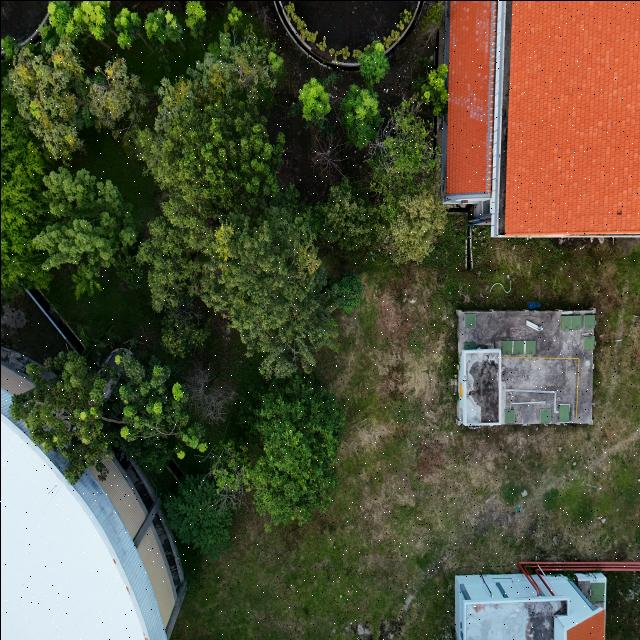Tree: (159, 473, 235, 557), (90, 58, 134, 138), (340, 80, 379, 146), (420, 60, 450, 116), (144, 2, 182, 46), (358, 40, 391, 84), (296, 76, 328, 120)
